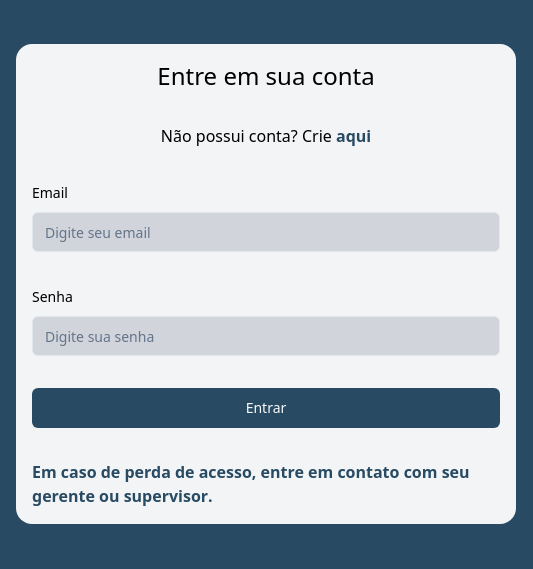
<Signin> › state error form › should show error message when fields was empty
Click the button "Entrar" at (266, 408), box [32,388,500,428]
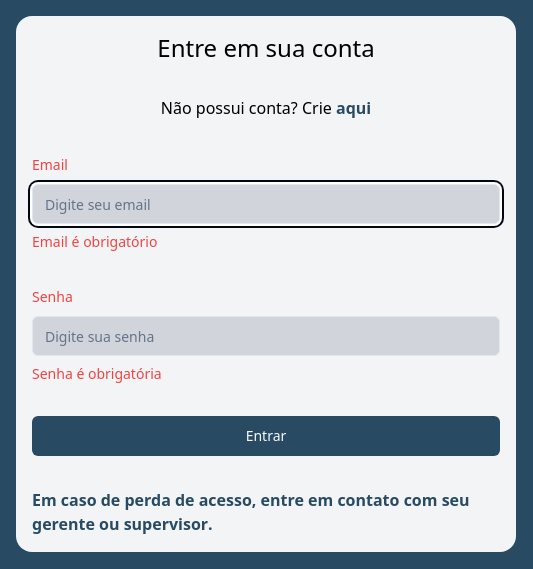
Expected: the text "Email é obrigatório" is shown, [32,232,158,251]
Expected: the text "Senha é obrigatória" is shown, [32,364,162,383]
